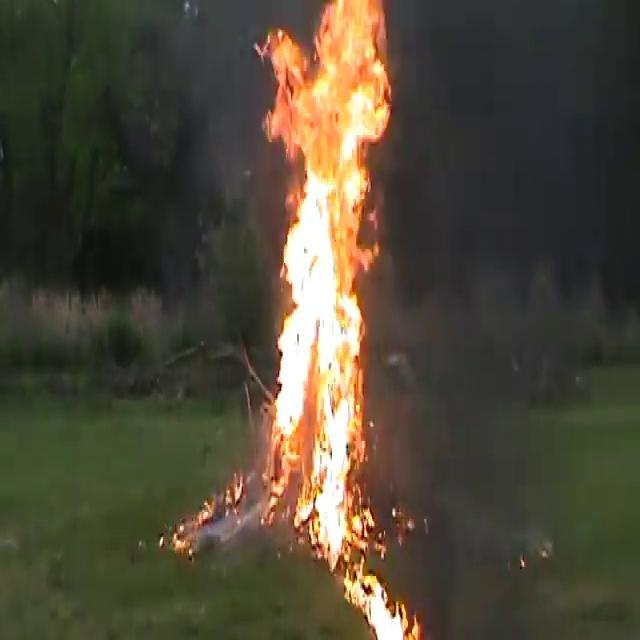Fire: (238, 2, 410, 590)
